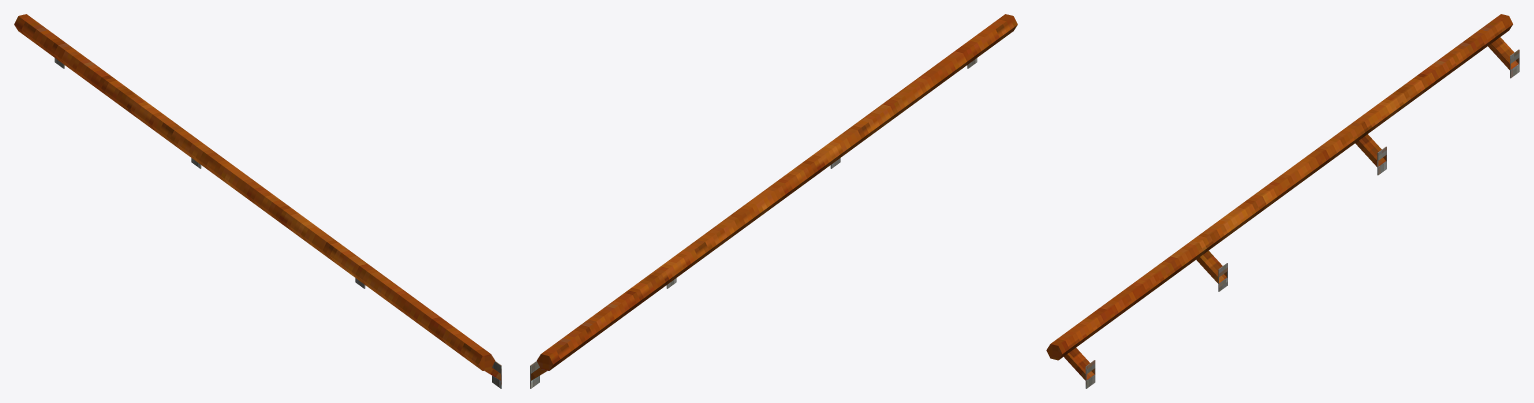
Rendered from SM_HandRail.fbx.
3 views of the same model, side by side, from view 1: azimuth 30°, elevation 25°; view 2: azimuth 150°, elevation 25°; view 3: azimuth 330°, elevation 25° (orthographic). The views are drawn at different scales.
Visible parts, largest first — view 1: SM_HandRail; view 2: SM_HandRail; view 3: SM_HandRail.
Part boxes in pixels (x1,y1,x2,y2): SM_HandRail: (14,14,501,388); SM_HandRail: (530,14,1017,388); SM_HandRail: (1046,14,1519,388).
Size of the model in its own units: 11.83 by 16.17 by 295.
